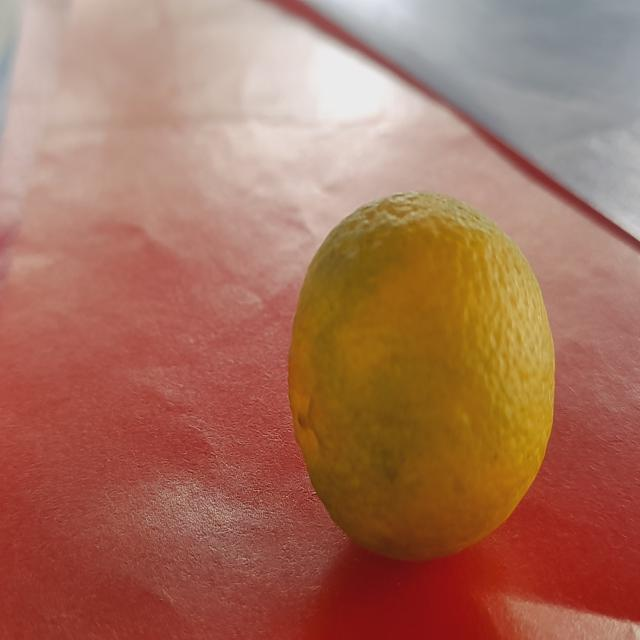greening: (282, 218, 566, 552)
